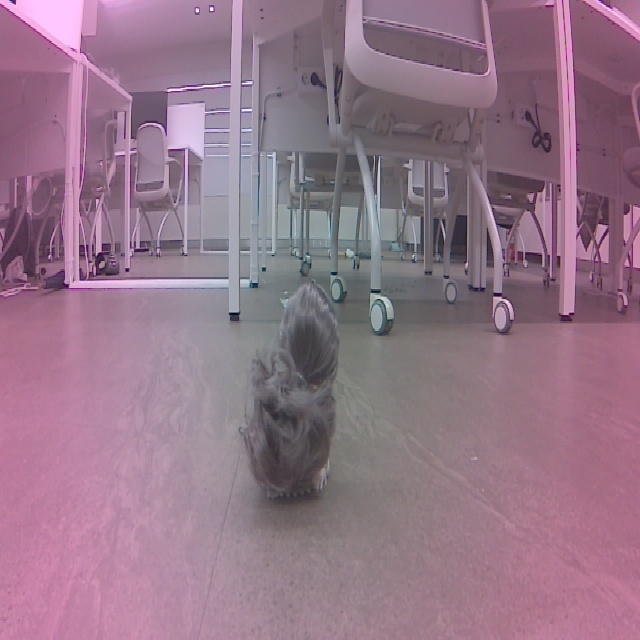장애물: (297, 261, 432, 472)
